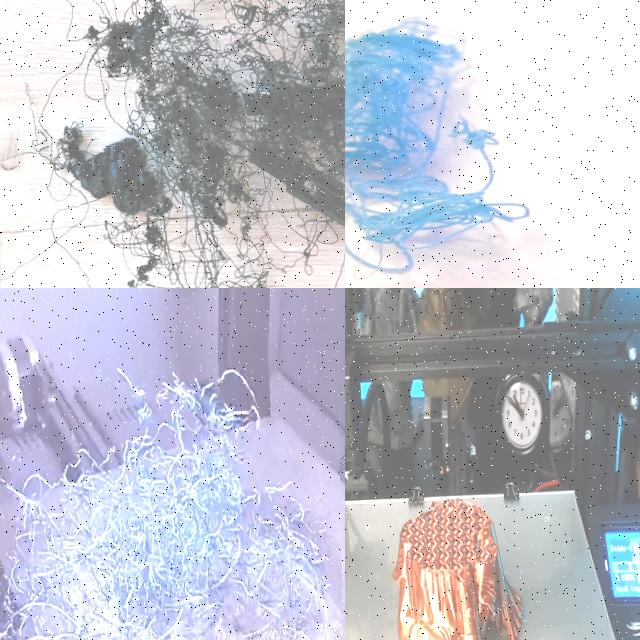spaghetti: (0, 347, 345, 640), (0, 0, 345, 288), (345, 12, 530, 287)
